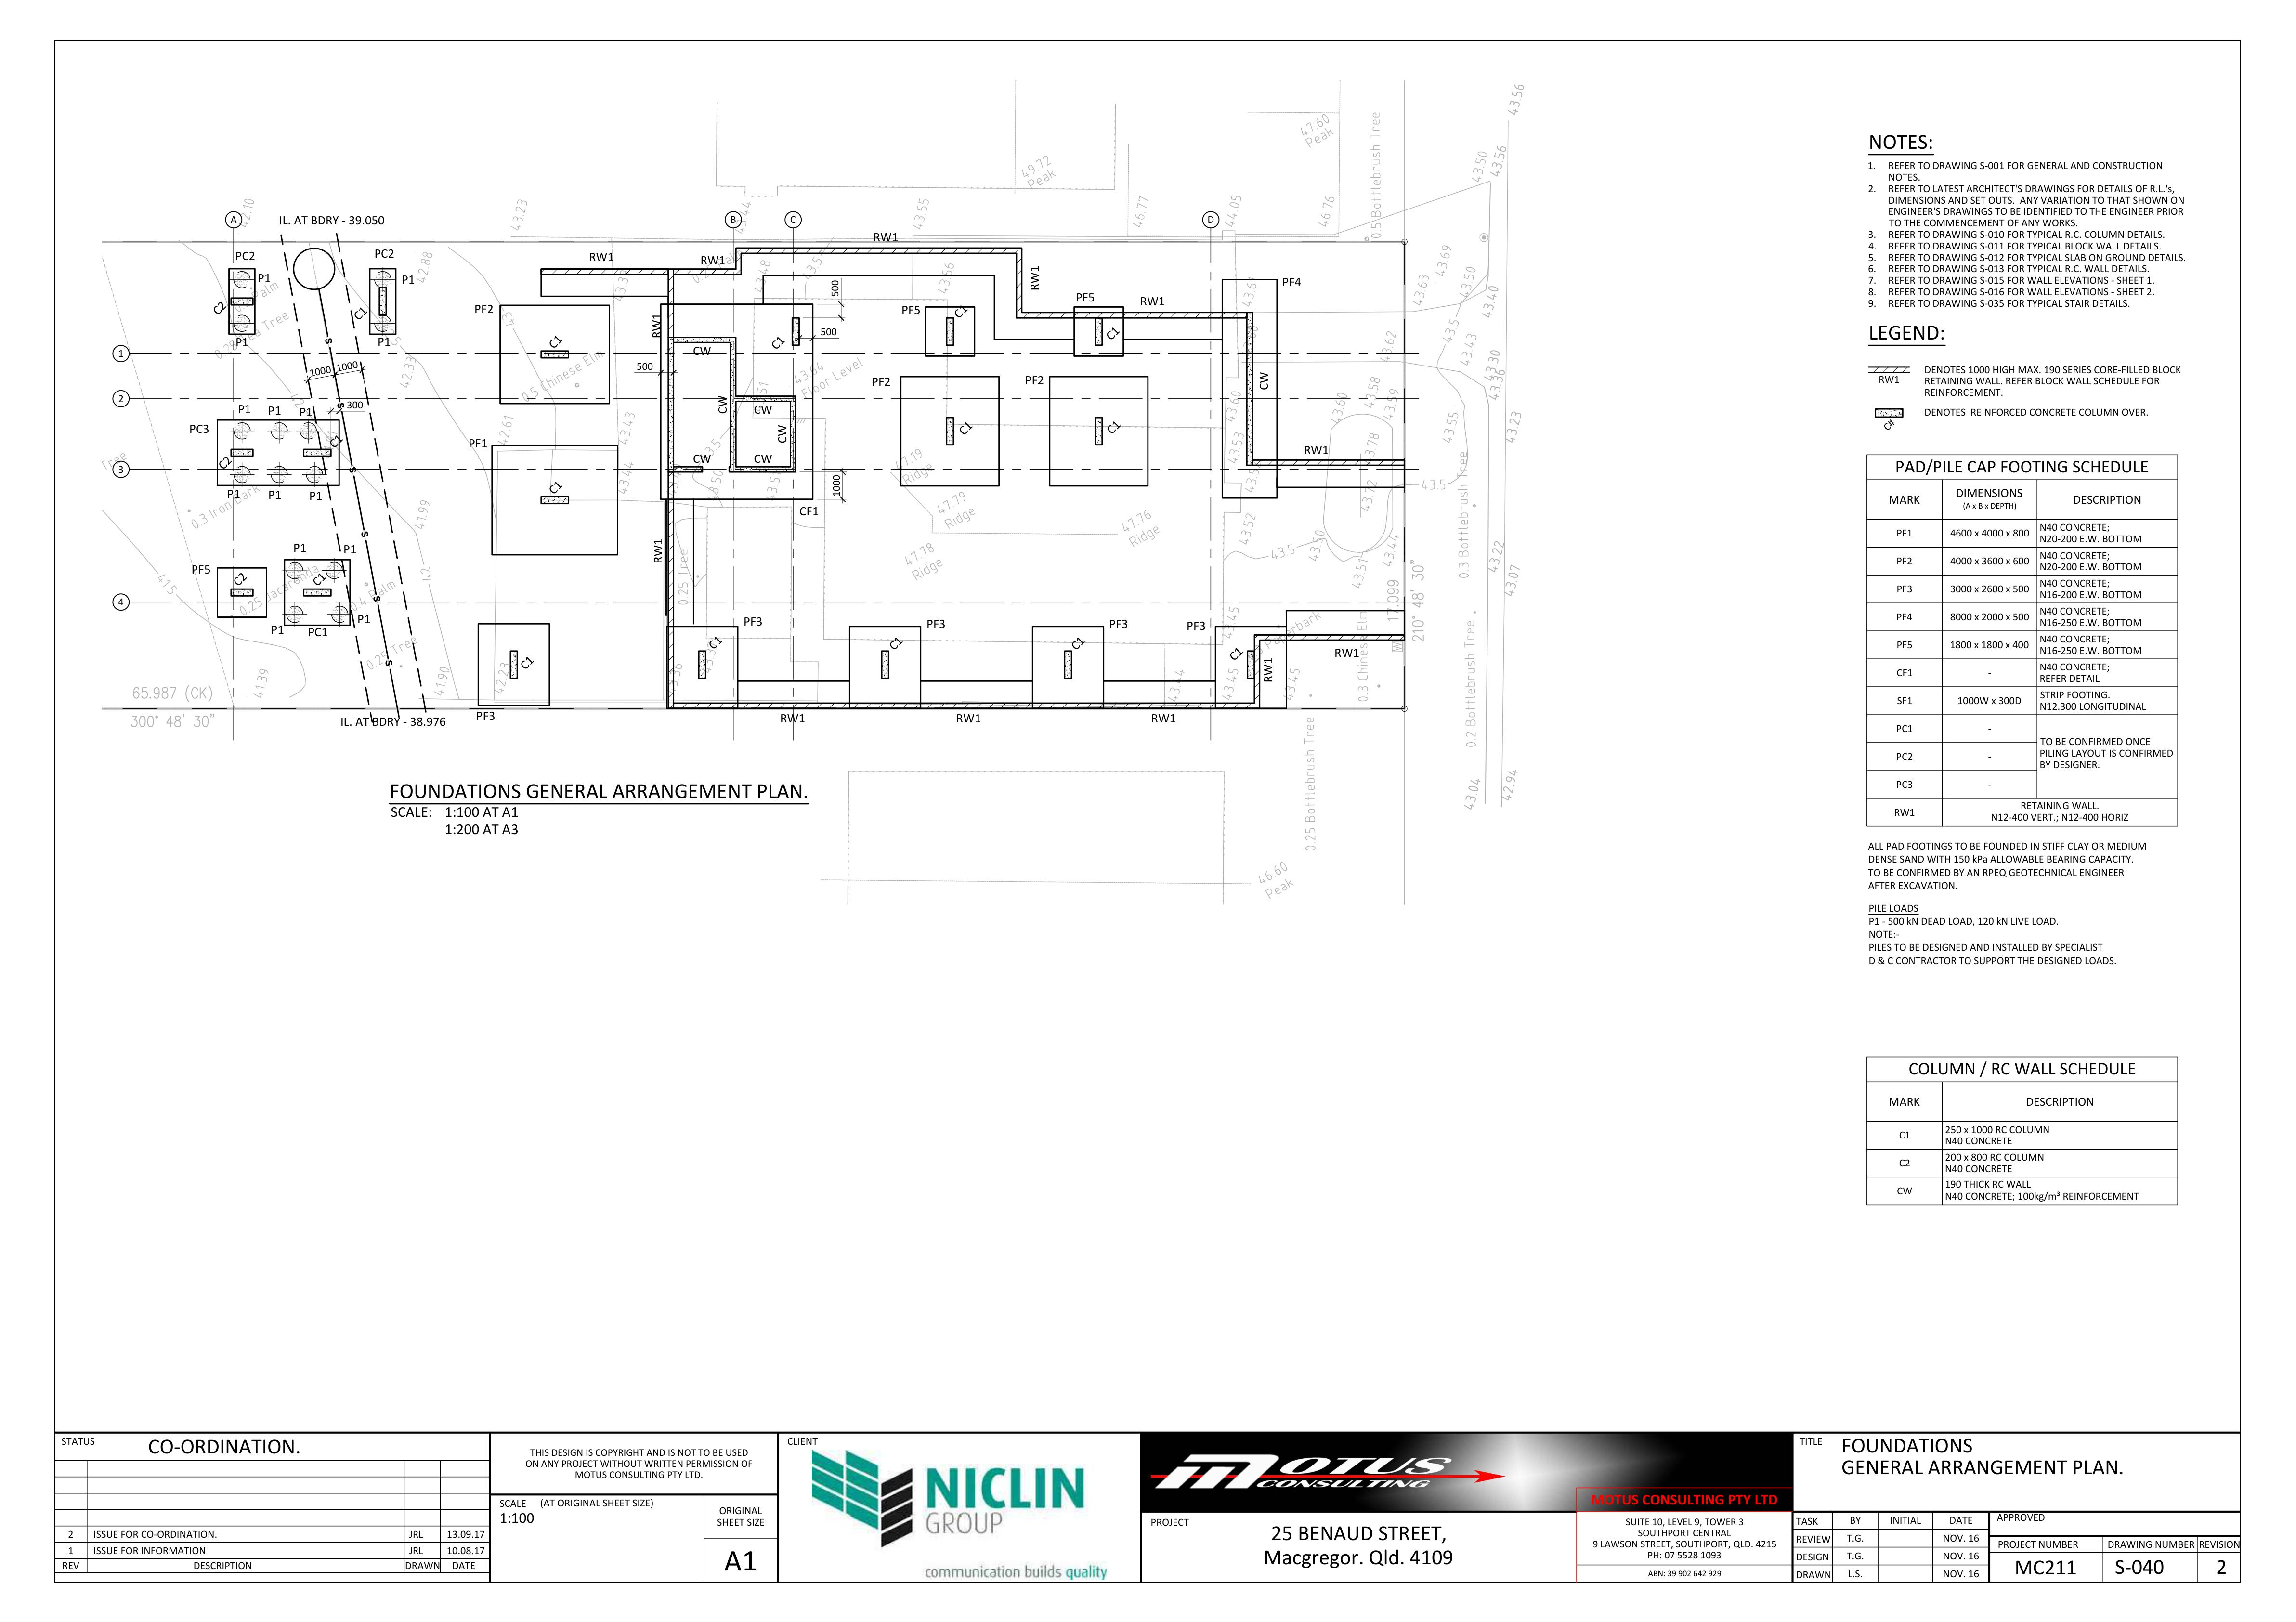C1: (348, 300, 369, 323), (706, 632, 727, 655), (1104, 319, 1123, 344), (544, 328, 567, 348), (769, 330, 788, 353), (955, 418, 976, 437), (1071, 635, 1090, 655), (548, 477, 567, 495), (886, 635, 908, 651), (1229, 644, 1245, 664), (328, 434, 344, 451), (311, 572, 328, 588), (1106, 421, 1122, 439), (521, 655, 537, 671), (953, 305, 969, 319)
C2: (235, 571, 249, 588), (214, 300, 226, 314)
CF1: (797, 502, 820, 518)
CW: (1255, 367, 1273, 395), (776, 421, 792, 449), (748, 455, 778, 469), (713, 393, 730, 416), (690, 342, 714, 358), (755, 402, 778, 418), (693, 453, 714, 467)
P1: (284, 539, 311, 560), (372, 332, 397, 348), (335, 541, 360, 556), (232, 334, 255, 349), (305, 486, 325, 504), (400, 272, 418, 290), (237, 398, 255, 416), (269, 486, 286, 504), (353, 614, 376, 627), (298, 404, 314, 421), (255, 270, 274, 284), (225, 484, 244, 499), (267, 400, 281, 418), (272, 623, 290, 637)
PC1: (305, 625, 334, 639)
PC2: (369, 244, 397, 262), (235, 248, 260, 263)
PC3: (183, 418, 214, 439)
PF1: (463, 430, 491, 451)
PF2: (467, 293, 499, 318), (1018, 370, 1048, 390), (869, 372, 893, 386)
PF3: (1176, 616, 1211, 634), (474, 709, 506, 727), (923, 616, 957, 632), (1109, 613, 1134, 634), (737, 614, 769, 630)
PF4: (1278, 274, 1306, 290)
PF5: (1074, 284, 1101, 307), (897, 298, 927, 318), (191, 562, 218, 576)
RW1: (951, 711, 992, 732), (869, 223, 902, 246), (1152, 711, 1190, 728), (585, 246, 616, 267), (693, 249, 728, 267), (778, 713, 811, 730), (1299, 441, 1332, 456), (1260, 655, 1278, 685), (1332, 646, 1362, 664), (1136, 293, 1166, 311), (649, 311, 665, 341), (1029, 262, 1043, 293), (649, 534, 662, 567)
